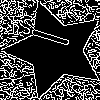I: (30, 25, 81, 53)
